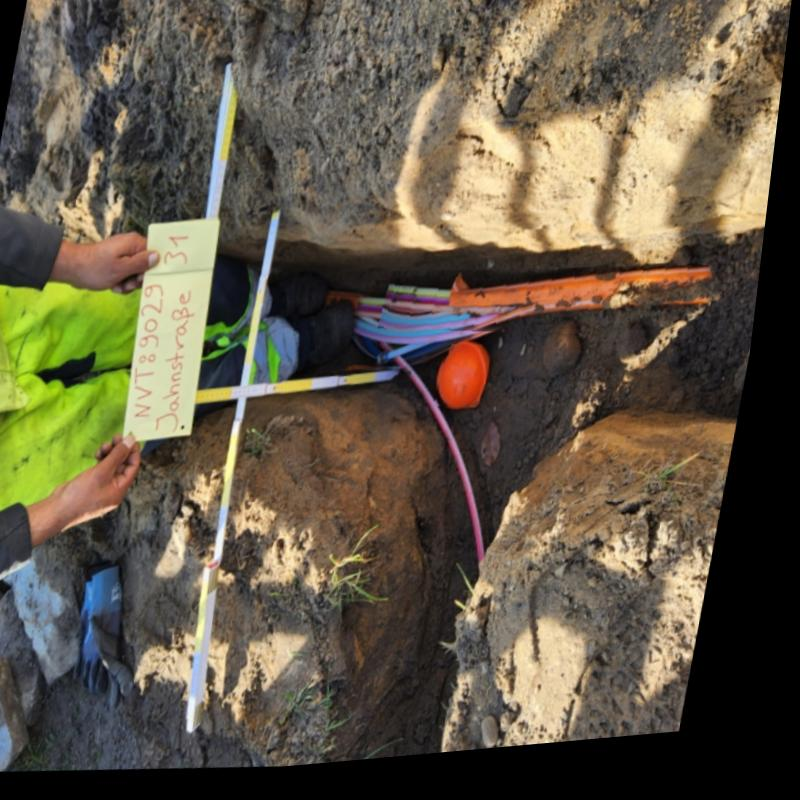Kugelmarker: (449, 354, 498, 416)
Orang-Speednetrohrchen: (390, 279, 719, 340)
